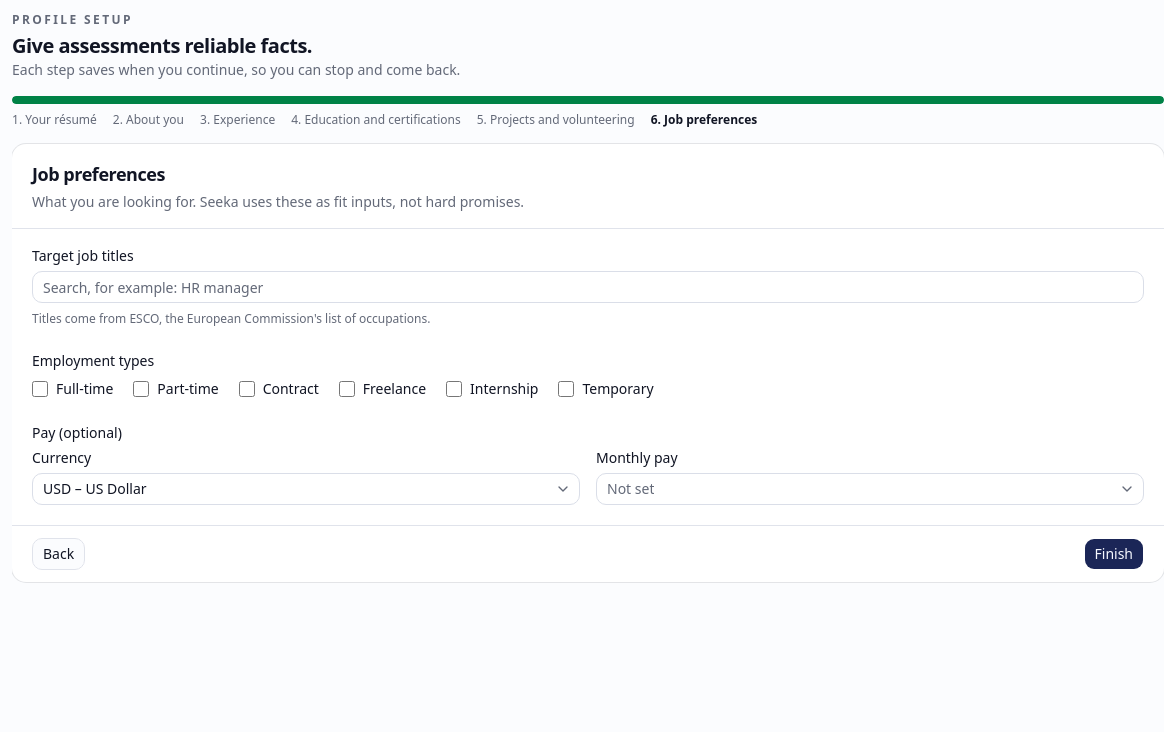
Test: OnboardingPage › Job preferences › asks for a title before finishing
Click the button "Finish". click: (1114, 554)
box: [1084,538,1144,570]
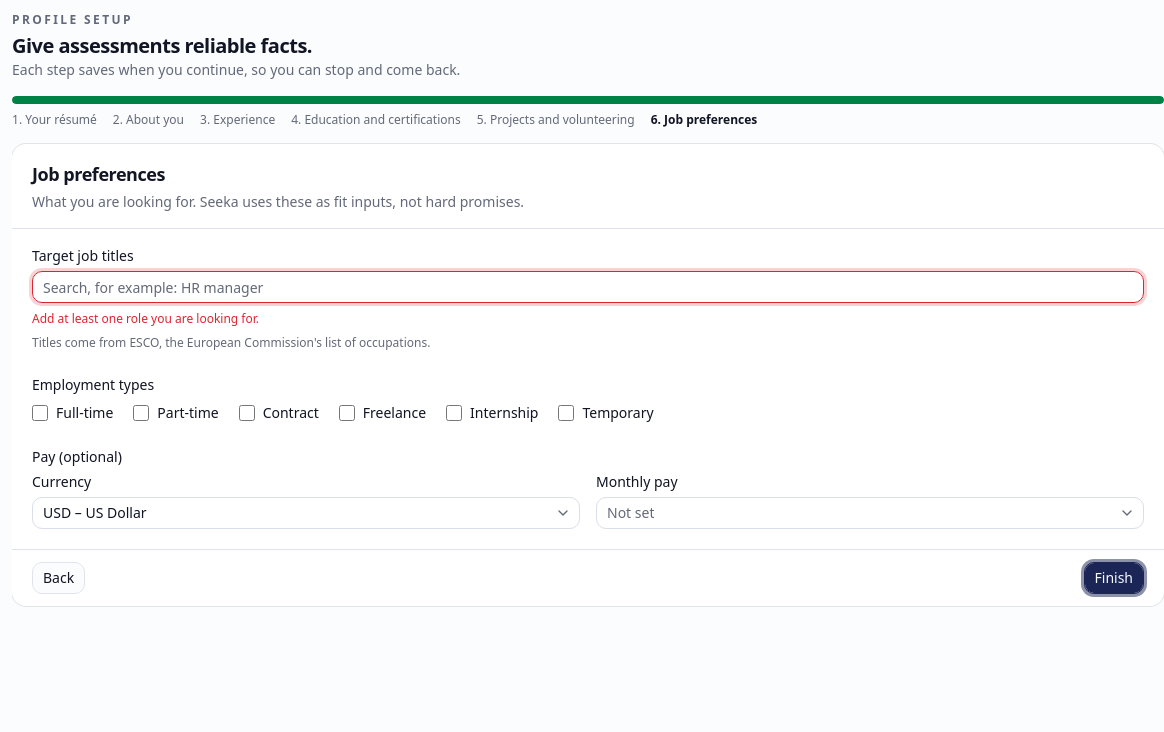
Check: the text "Add at least one role you are looking for." is shown, box [32,310,259,327]
